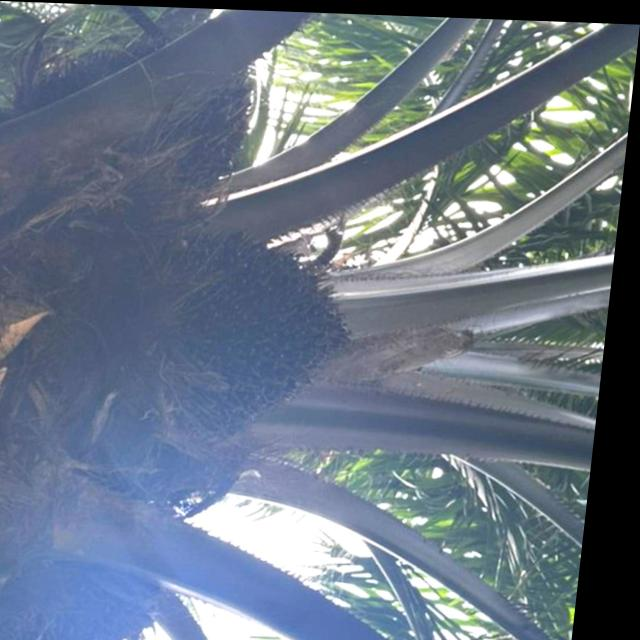unripe: (142, 218, 374, 451)
